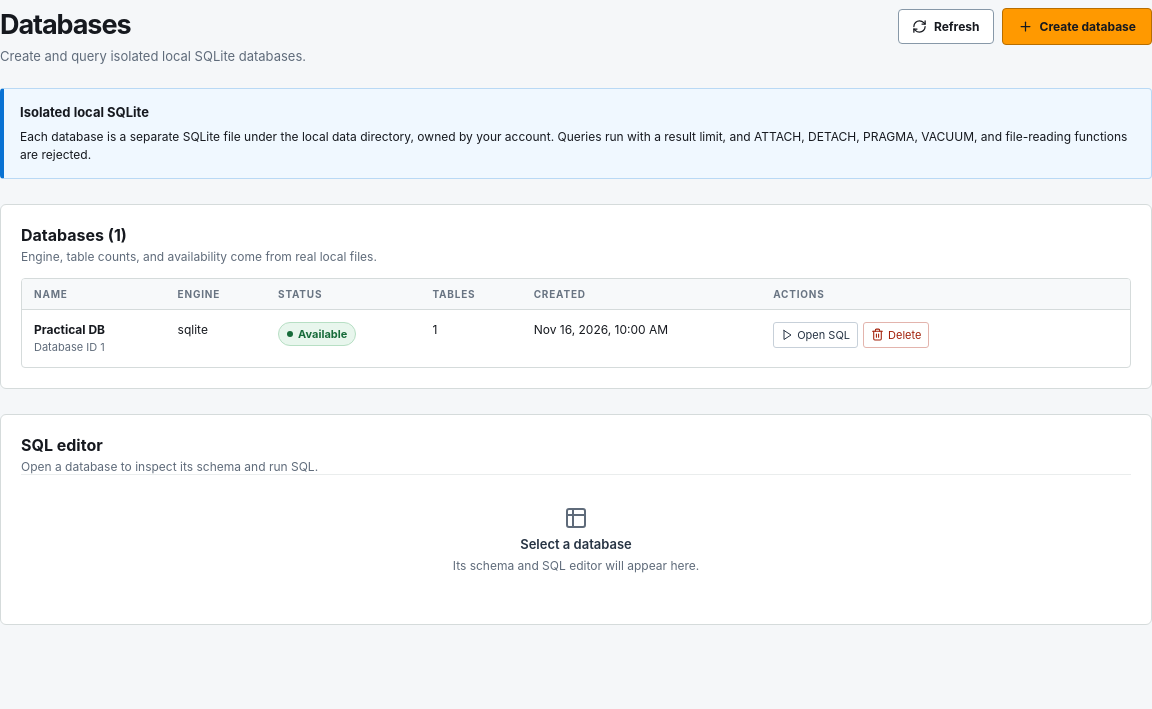
Test case: databases page › opens a database, shows its schema, and runs a real SQL query
Check: the text "Practical DB" is shown, box [34,322,105,336]
Click the button "Open SQL" at coordinates (816, 334), box [773,322,858,348]
(page scrolled)
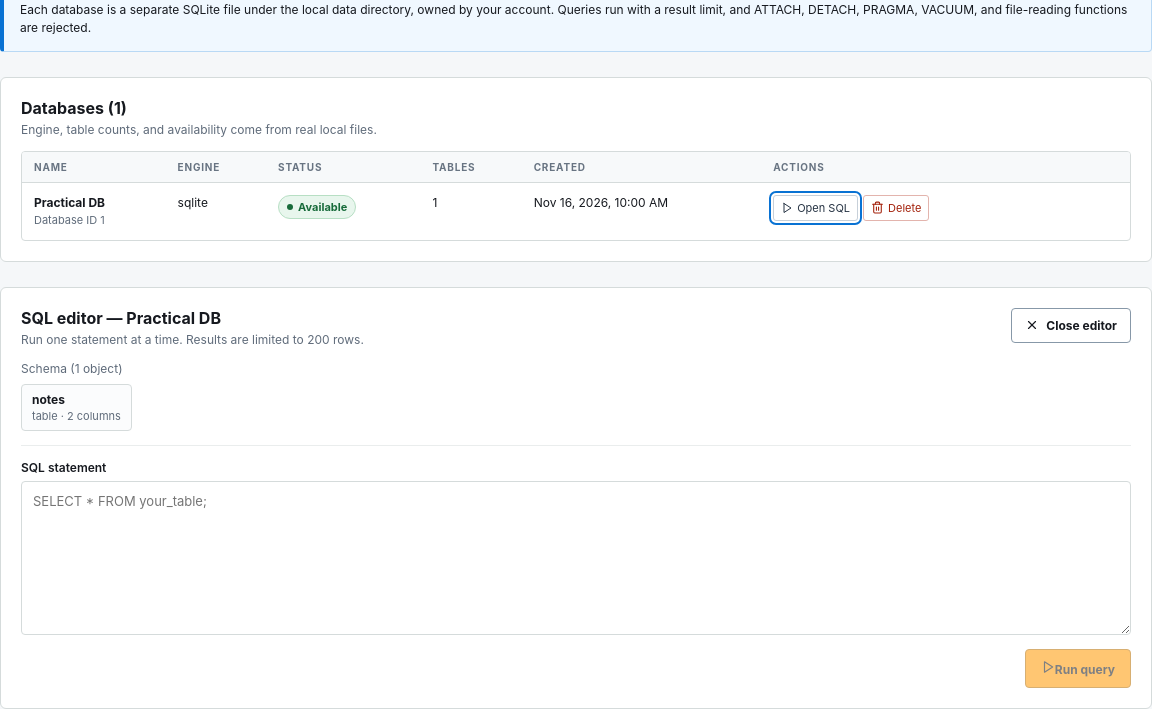
Check: the text "notes" is shown, box [32,392,65,407]
Check: the text "table · 2 columns" is shown, box [32,409,121,423]
Type "SELECT id, title FROM notes" into the text box labelled "SQL statement" at coordinates (576, 558), box [21,481,1131,635]
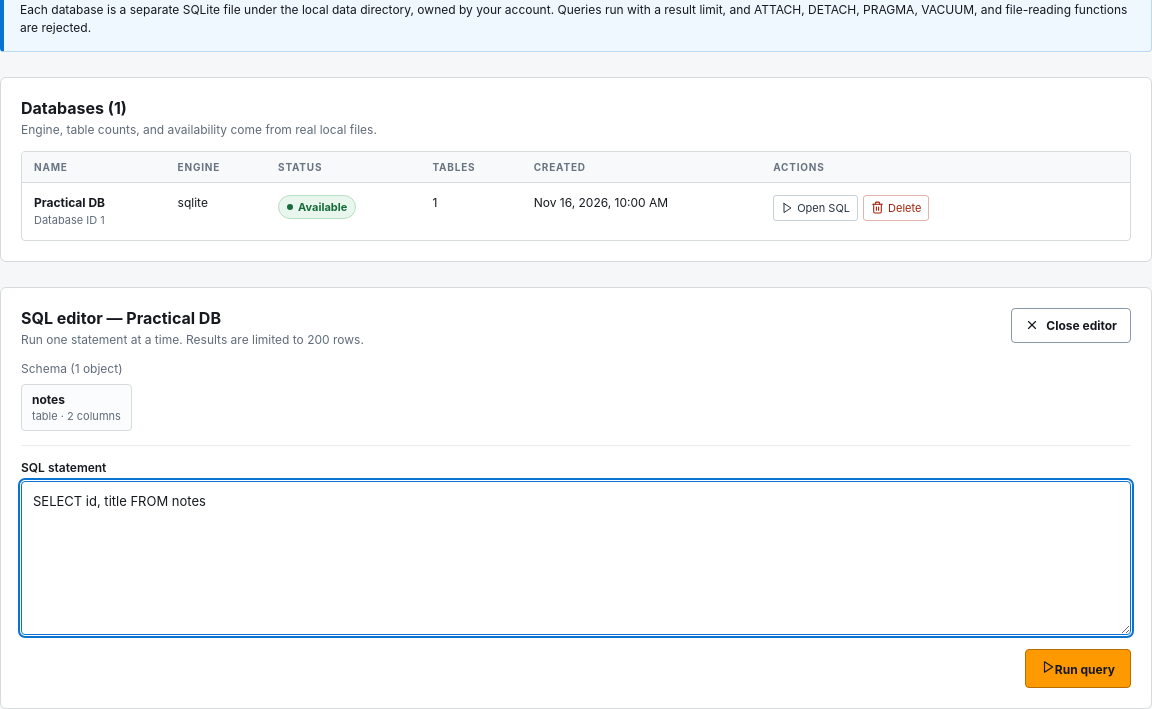
Click the button "Run query" at coordinates (1078, 668), box [1025,649,1131,688]
(page scrolled)
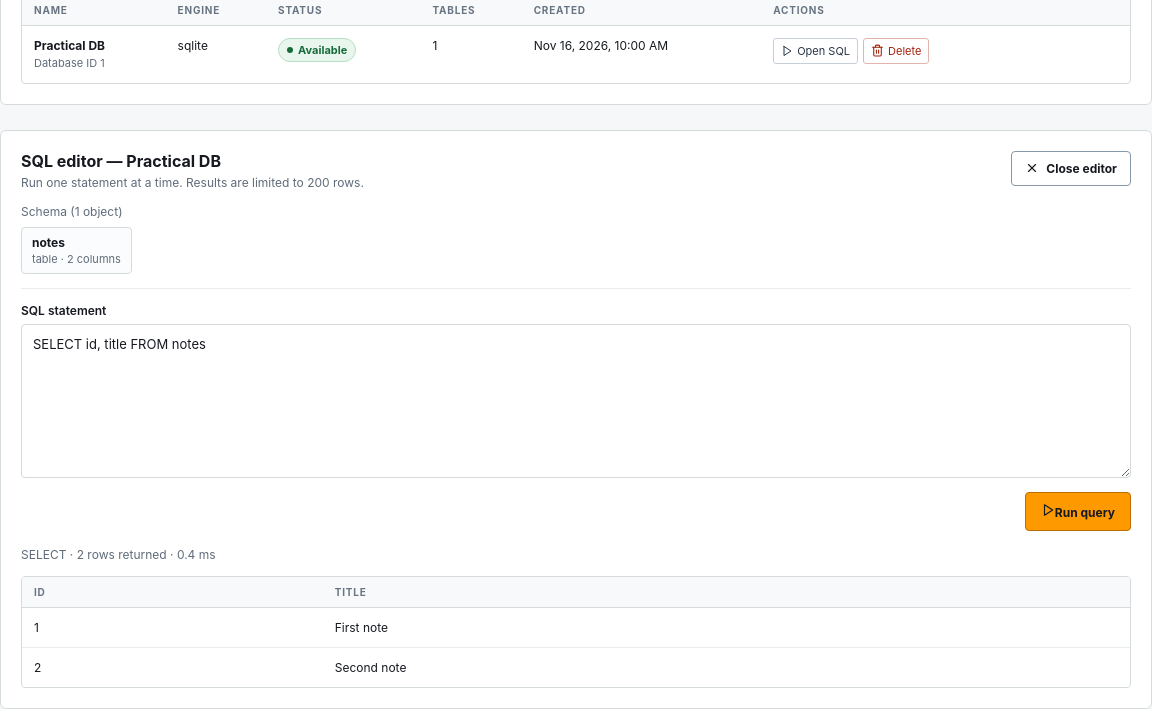
Check: the text "First note" is shown, box [323,607,1130,647]
Check: the text "Second note" is shown, box [323,647,1130,687]
Check: the column heading "id" is shown, box [22,577,323,607]
